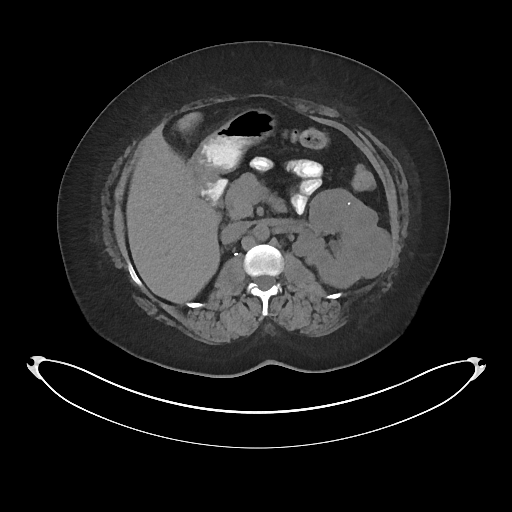Lesion: (340, 221, 393, 283)
